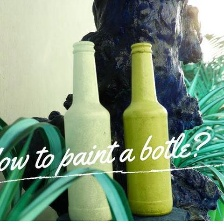bottle: (61, 37, 118, 223), (124, 37, 175, 219)
